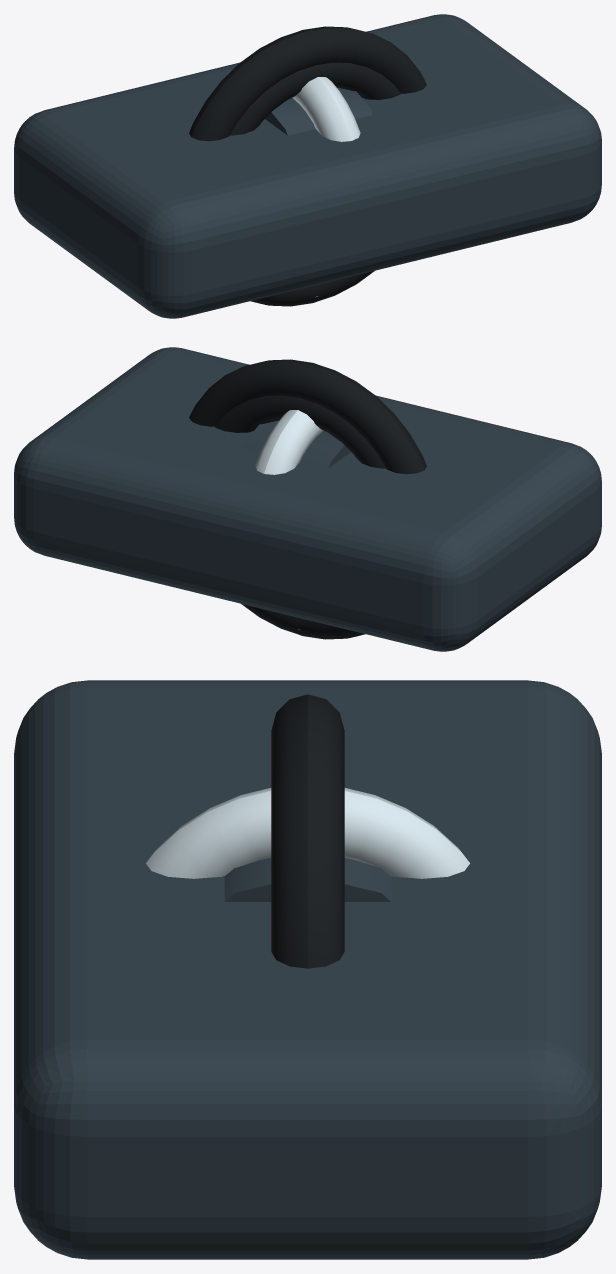
Rendered from body_06.glb.
3 renders of one model, top to bottom at view 1: azimuth 30°, elevation 25°; view 2: azimuth 150°, elevation 25°; view 3: azimuth 270°, elevation 25°, orthographic. The views are drawn at different scales.
Visible parts, largest first — view 1: asset_mesh__body_0377__reference_body, asset_mesh__body_0420__service_element, asset_mesh__body_0417__service_element, asset_mesh__body_0415__functional_ring, asset_mesh__body_0415__rotor; view 2: asset_mesh__body_0377__reference_body, asset_mesh__body_0420__service_element, asset_mesh__body_0417__service_element, asset_mesh__body_0415__functional_ring, asset_mesh__body_0415__rotor; view 3: asset_mesh__body_0377__reference_body, asset_mesh__body_0420__service_element, asset_mesh__body_0415__functional_ring, asset_mesh__body_0415__rotor.
Part boxes in pixels (<box>): asset_mesh__body_0377__reference_body: <box>14,14,601,318</box>; asset_mesh__body_0420__service_element: <box>189,26,426,306</box>; asset_mesh__body_0417__service_element: <box>230,62,401,135</box>; asset_mesh__body_0415__functional_ring: <box>292,77,360,141</box>; asset_mesh__body_0415__rotor: <box>265,87,372,135</box>; asset_mesh__body_0377__reference_body: <box>14,347,601,651</box>; asset_mesh__body_0420__service_element: <box>189,359,426,639</box>; asset_mesh__body_0417__service_element: <box>214,395,385,468</box>; asset_mesh__body_0415__functional_ring: <box>255,410,323,474</box>; asset_mesh__body_0415__rotor: <box>243,420,350,468</box>; asset_mesh__body_0377__reference_body: <box>14,680,601,1259</box>; asset_mesh__body_0420__service_element: <box>271,694,344,968</box>; asset_mesh__body_0415__functional_ring: <box>146,788,469,878</box>; asset_mesh__body_0415__rotor: <box>224,857,391,901</box>.
Size of the model in its own units: 1.47 by 0.83 by 0.882.
